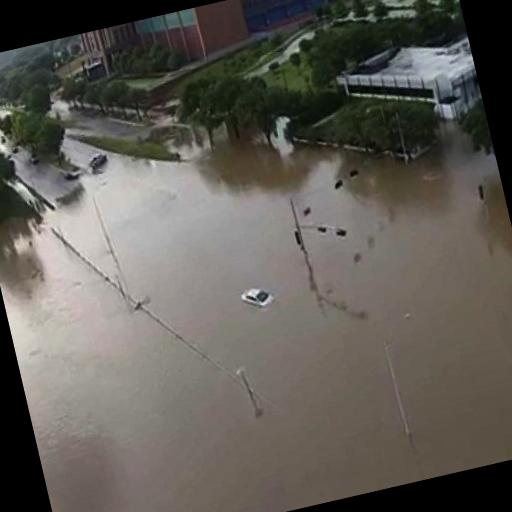flood: (0, 124, 512, 512)
house: (83, 0, 357, 105), (336, 30, 485, 142)
